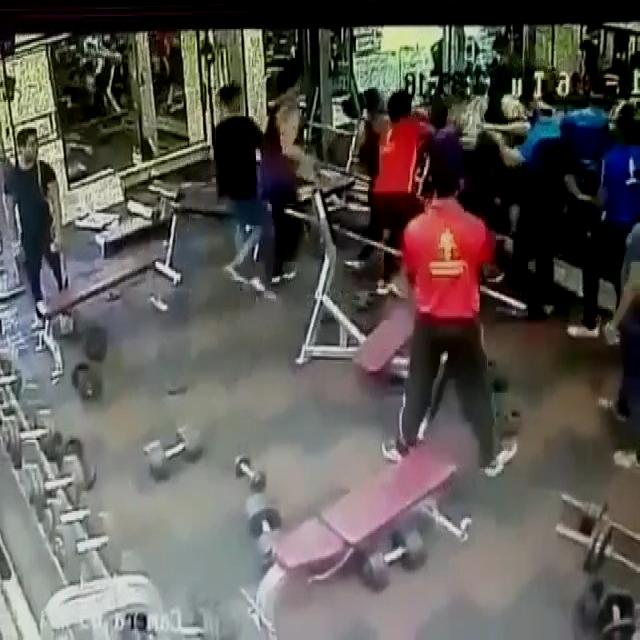fight: (461, 82, 566, 186)
